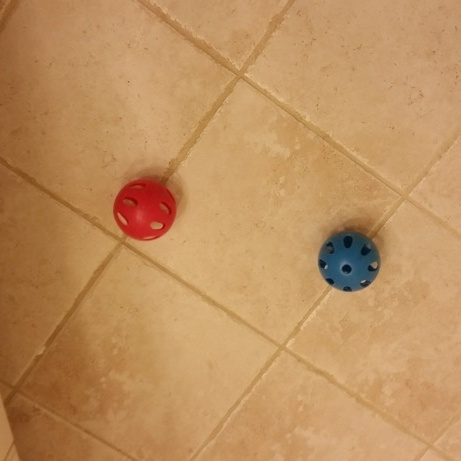blueball: (309, 227, 385, 296)
redball: (110, 175, 181, 244)
